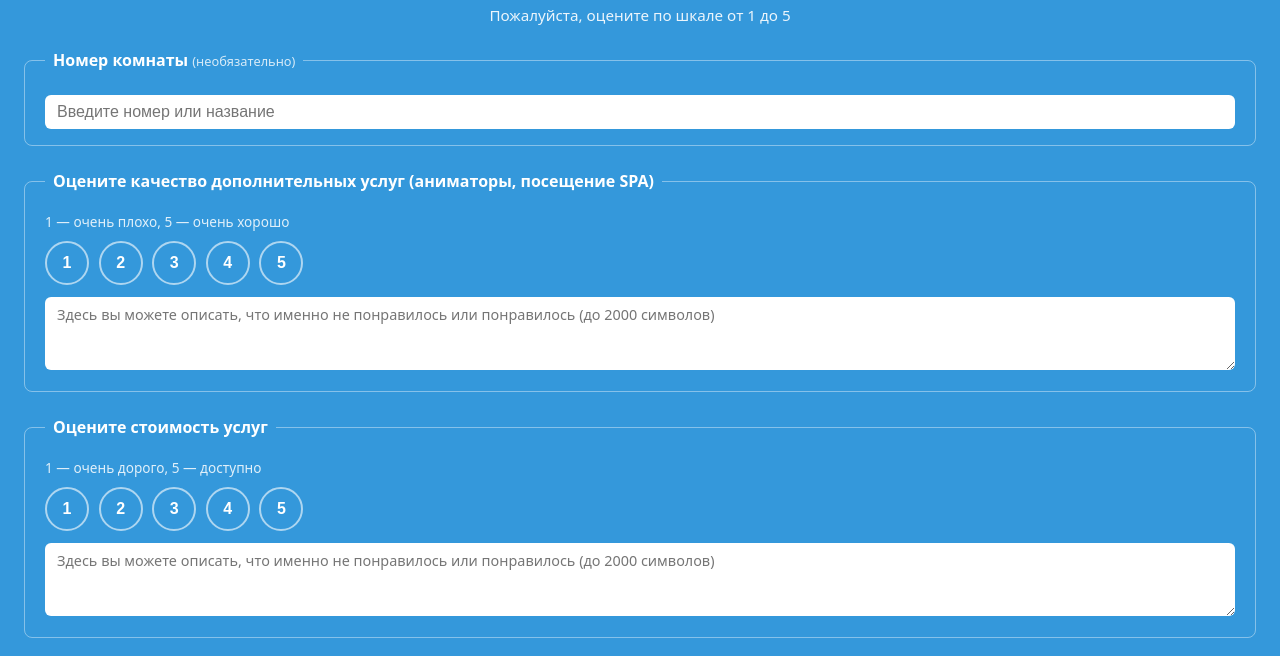
it: SurveyForm — прогресс-счётчик › обновляет счётчик при выборе оценок
Step 1. Click the button named "Оценка 5" → (281, 263), box left=259, top=241, right=303, bottom=285
(page scrolled)
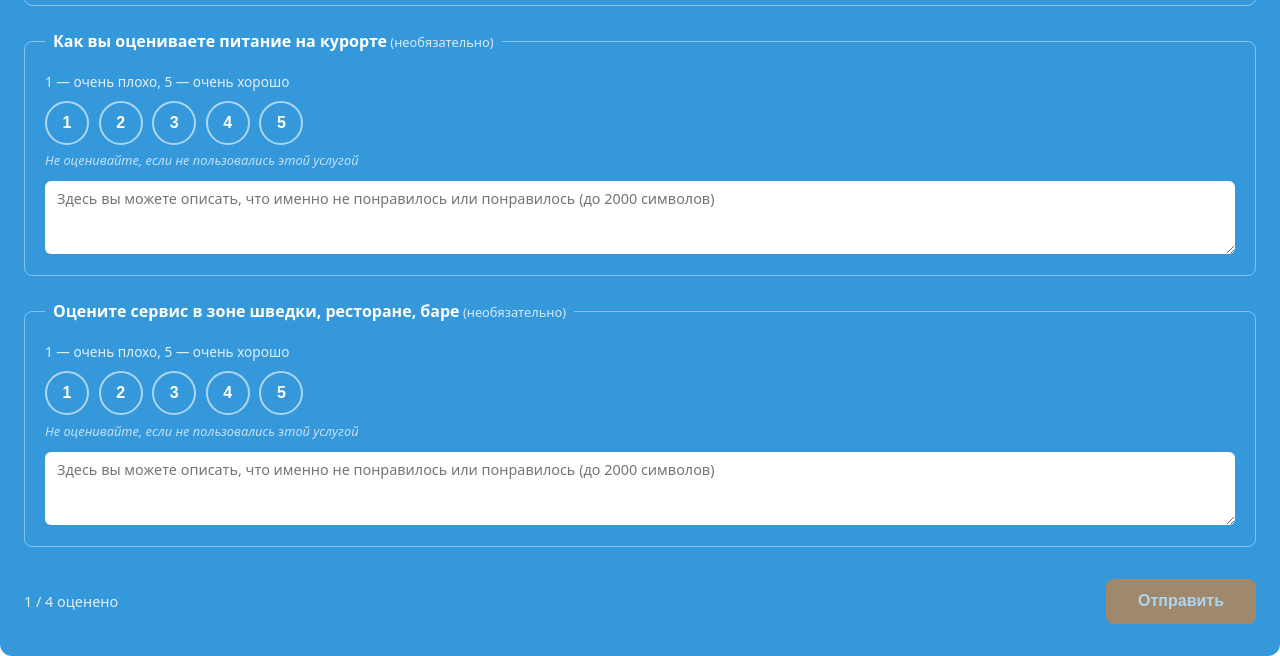
Check: the text "1 / 4 оценено" is shown, box left=24, top=592, right=118, bottom=611
